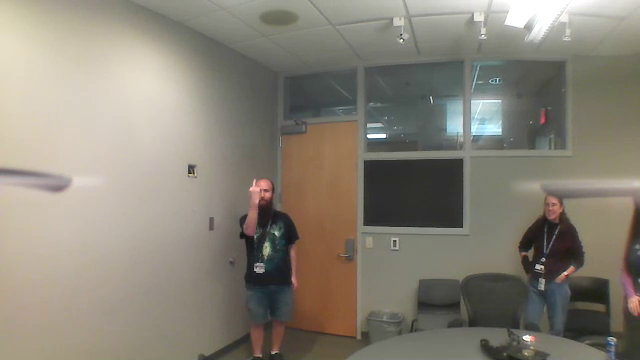up: (245, 171, 262, 203)
